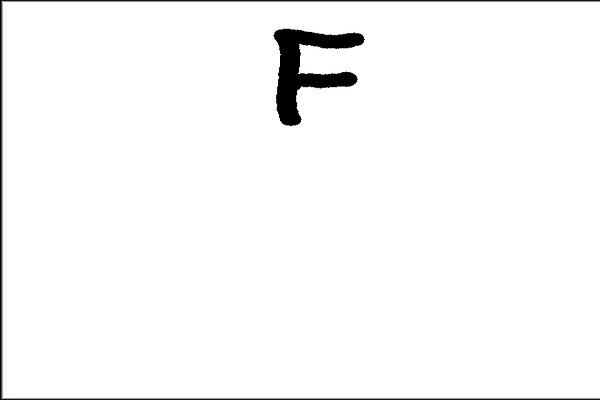F: (267, 21, 366, 131)
